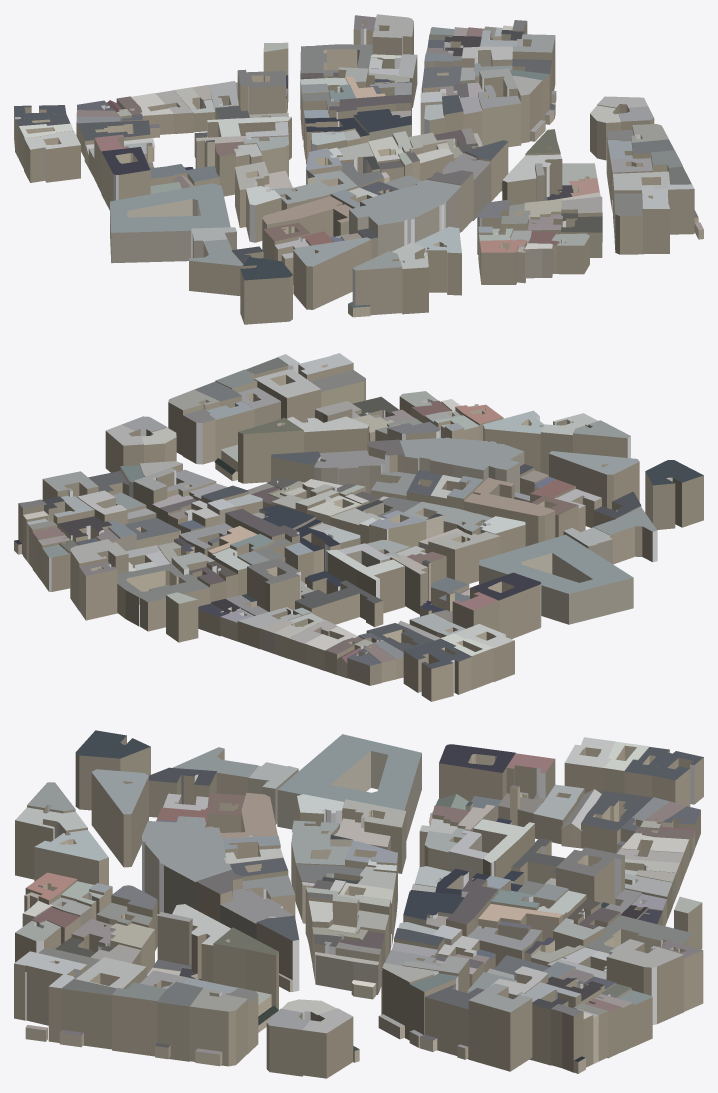
The picture shows the model from 3 angles, top to bottom: view 1: azimuth 30°, elevation 25°; view 2: azimuth 150°, elevation 25°; view 3: azimuth 270°, elevation 25°; orthographic projection. The views are drawn at different scales.
Parts seen in each view (by area): view 1: tuile; view 2: tuile; view 3: tuile.
Part boxes in pixels (box(x1,y1,x2,y2)): tuile: box(14, 14, 703, 324); tuile: box(14, 353, 703, 701); tuile: box(14, 730, 703, 1078).
Bounding box in the file's own units: 283 × 28.96 × 263.
